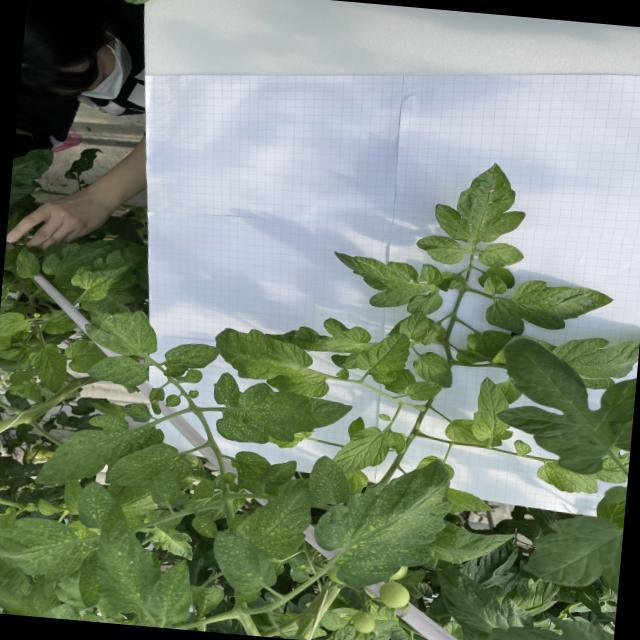Tomato healthy leaf: (492, 336, 639, 479), (520, 510, 624, 594), (429, 561, 535, 639), (473, 605, 615, 640)
Tomato target spot leaf: (310, 448, 456, 594), (414, 156, 532, 272), (208, 371, 354, 451), (34, 408, 166, 495), (478, 271, 616, 342), (209, 326, 334, 399), (91, 501, 167, 616), (328, 250, 446, 317), (0, 512, 93, 590), (232, 478, 314, 561), (550, 333, 640, 393), (536, 441, 630, 498), (68, 240, 146, 306), (81, 294, 161, 358), (208, 529, 281, 596), (104, 438, 194, 492), (264, 312, 374, 356), (40, 235, 119, 293), (331, 422, 407, 479), (144, 556, 197, 624), (354, 329, 412, 386), (470, 376, 517, 443), (306, 454, 354, 508), (162, 340, 220, 381), (24, 342, 68, 395), (86, 352, 150, 388), (75, 478, 116, 530), (443, 417, 504, 448), (62, 337, 108, 375), (410, 349, 454, 388), (149, 466, 183, 506), (40, 308, 80, 337), (398, 308, 429, 342), (403, 379, 443, 403), (15, 246, 43, 280), (0, 311, 32, 340), (190, 512, 218, 538), (122, 402, 152, 424), (577, 372, 613, 389), (146, 386, 166, 416), (192, 477, 216, 501)
